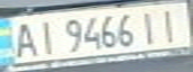4: (81, 12, 103, 51)
6: (115, 10, 142, 47), (100, 11, 121, 50)
9: (60, 15, 84, 53)
A: (6, 19, 42, 58)
I: (154, 4, 187, 43), (30, 16, 60, 56), (136, 7, 163, 45)
